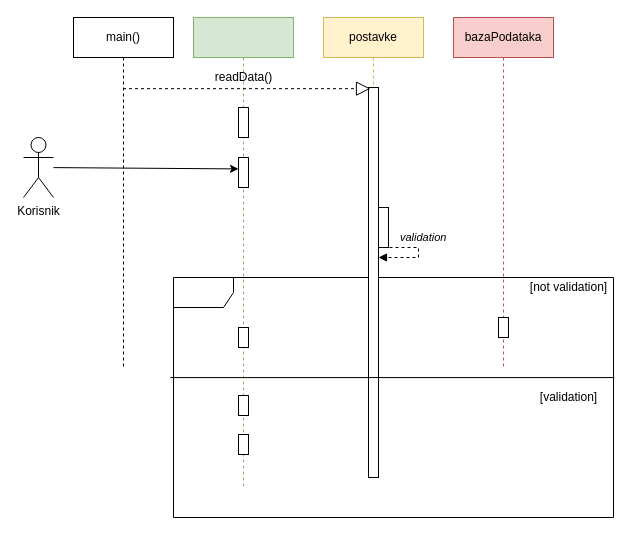
Some shapes in this 633 by 535 pixel diagram are drawn without their labels. Each missing label, with the box of its shape:
opt: (172, 276, 614, 518)
podaci: (192, 16, 294, 488)
